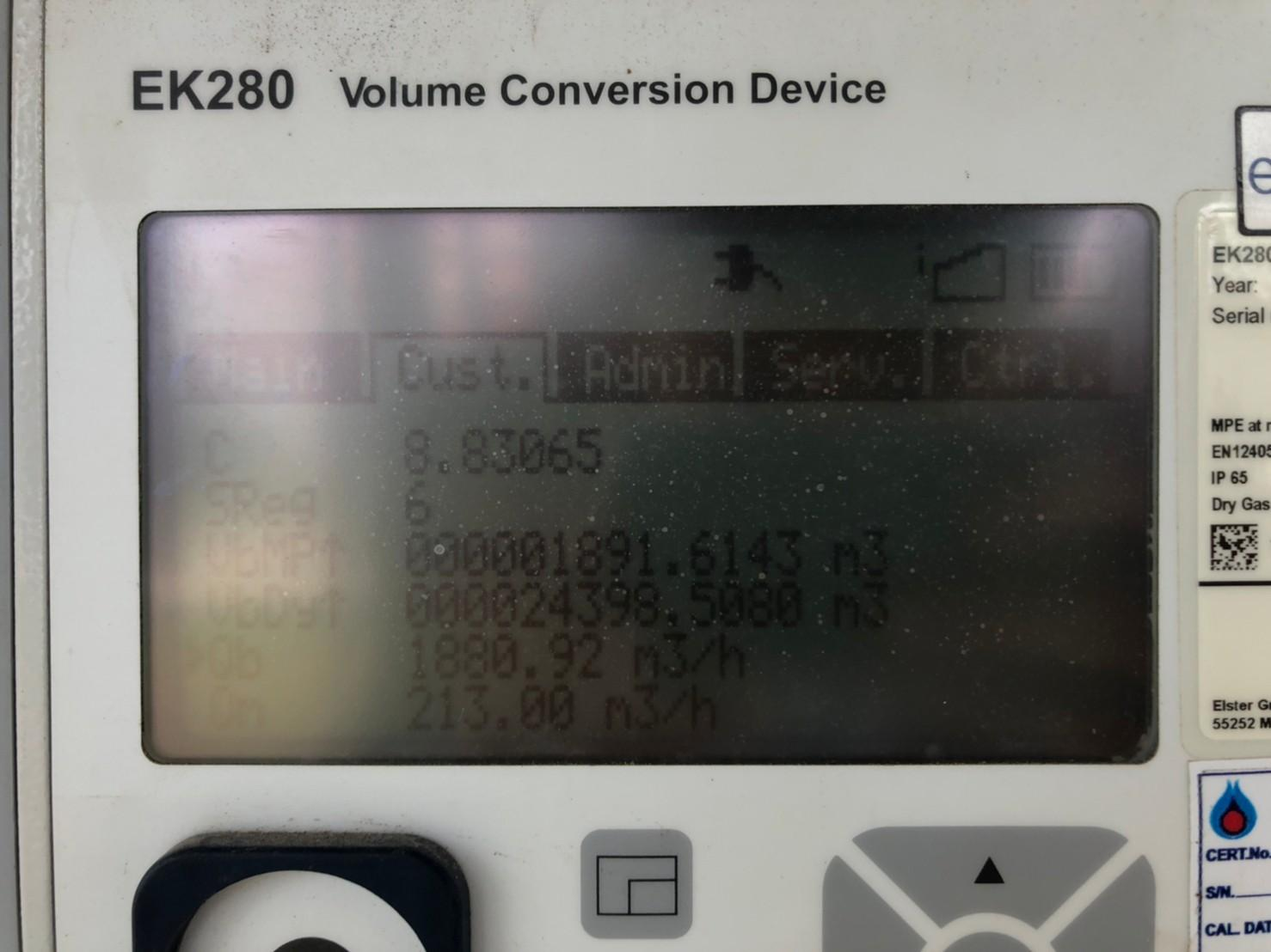digital_screen: (143, 211, 1159, 767)
